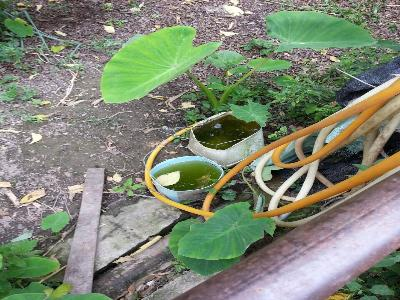bowl: (148, 156, 225, 204)
box: (187, 110, 267, 169)
